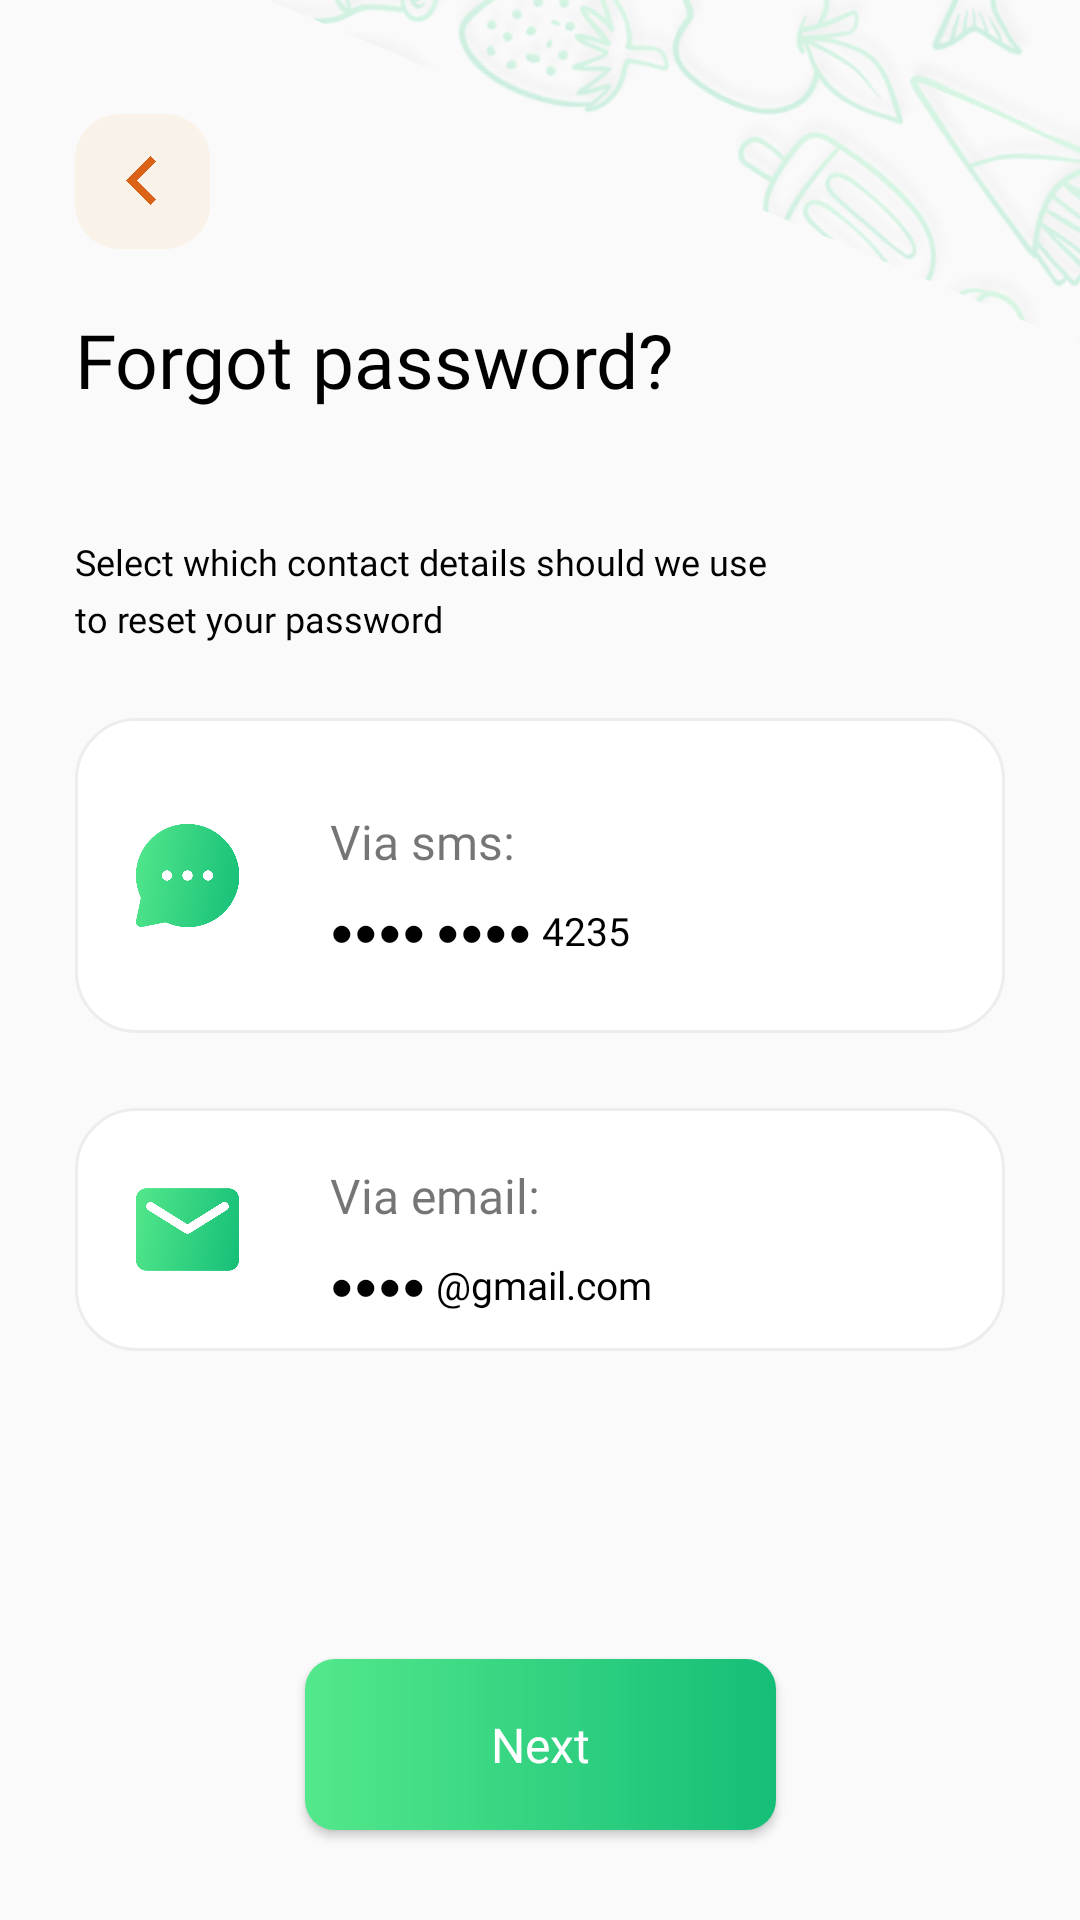

Icon bounding boxes for this 1080×1920 phone screenshot, format (x1, y1, x2, y2):
backicon: (75, 114, 210, 249)
